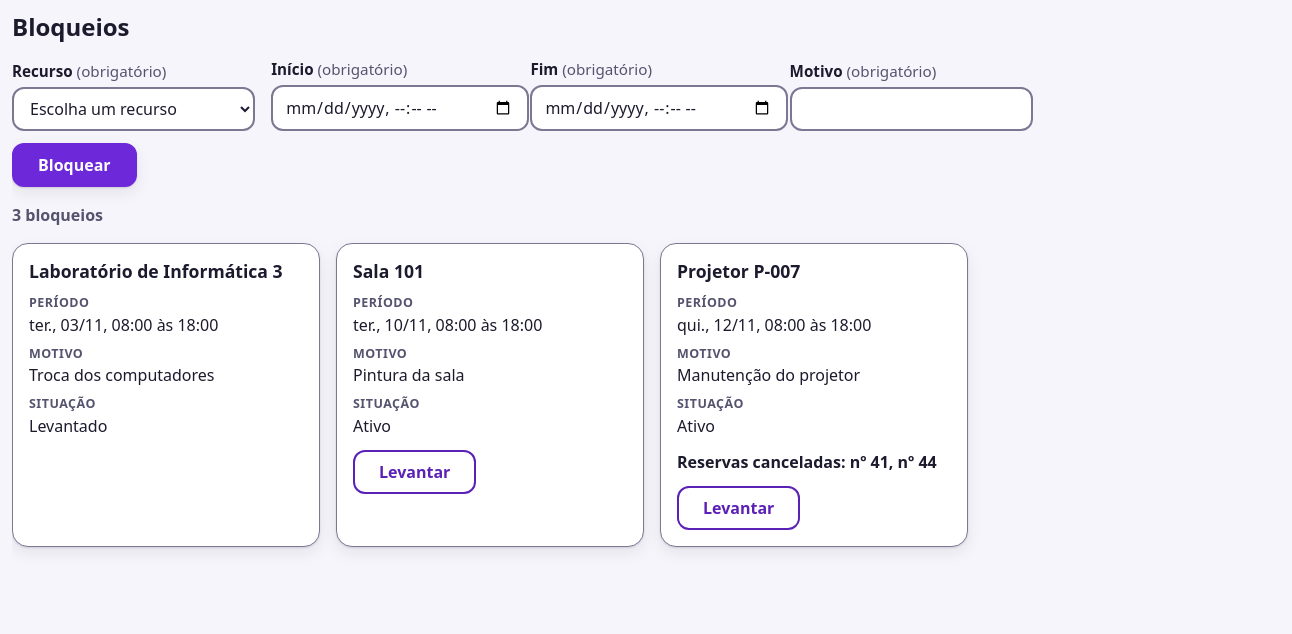
Scenario: PaginaDeBloqueios: novo bloqueio (RN-22) › sem reservas afetadas o primeiro envio cria o bloqueio: dados no fuso do campus, sem confirmação, aviso com o foco
Expected: the element "Sala 101" is shown, x1=336 y1=243 x2=644 y2=547
Step 1. Select "Sala 101" in the dropdown labelled "Recurso (obrigatório)" → [134, 109], box x1=12 y1=87 x2=255 y2=131
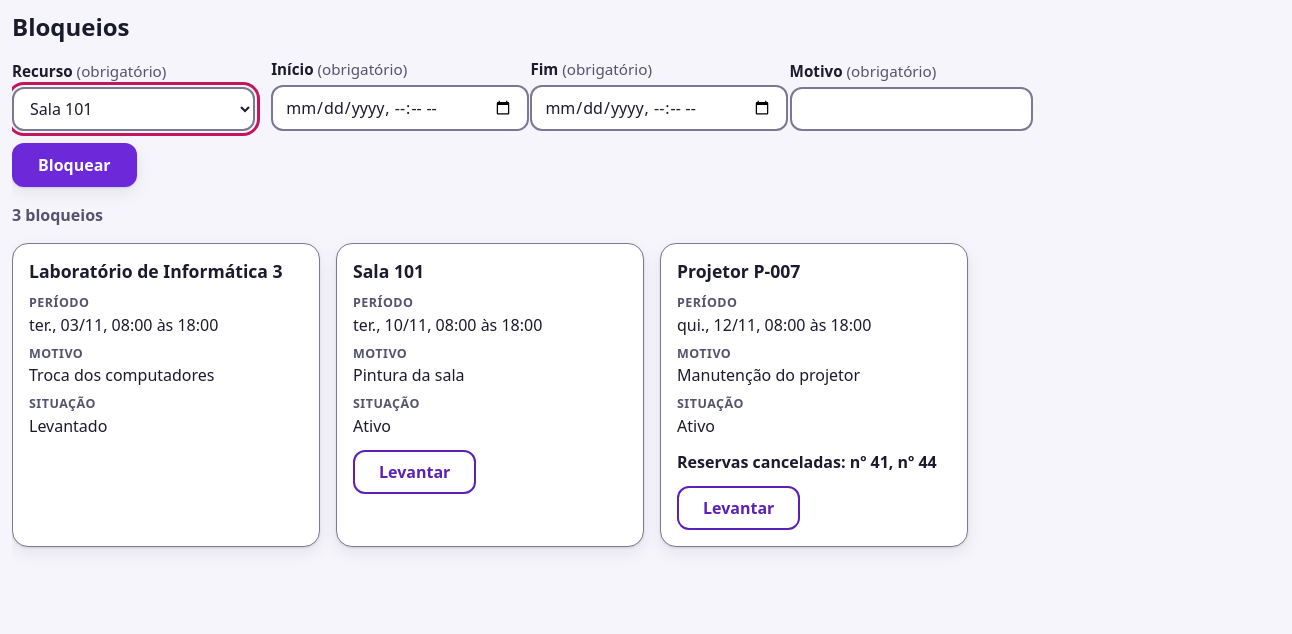
Step 2. Type "2026-11-20T08:00" into the field labelled "Início (obrigatório)" → [400, 108], box x1=271 y1=85 x2=529 y2=131
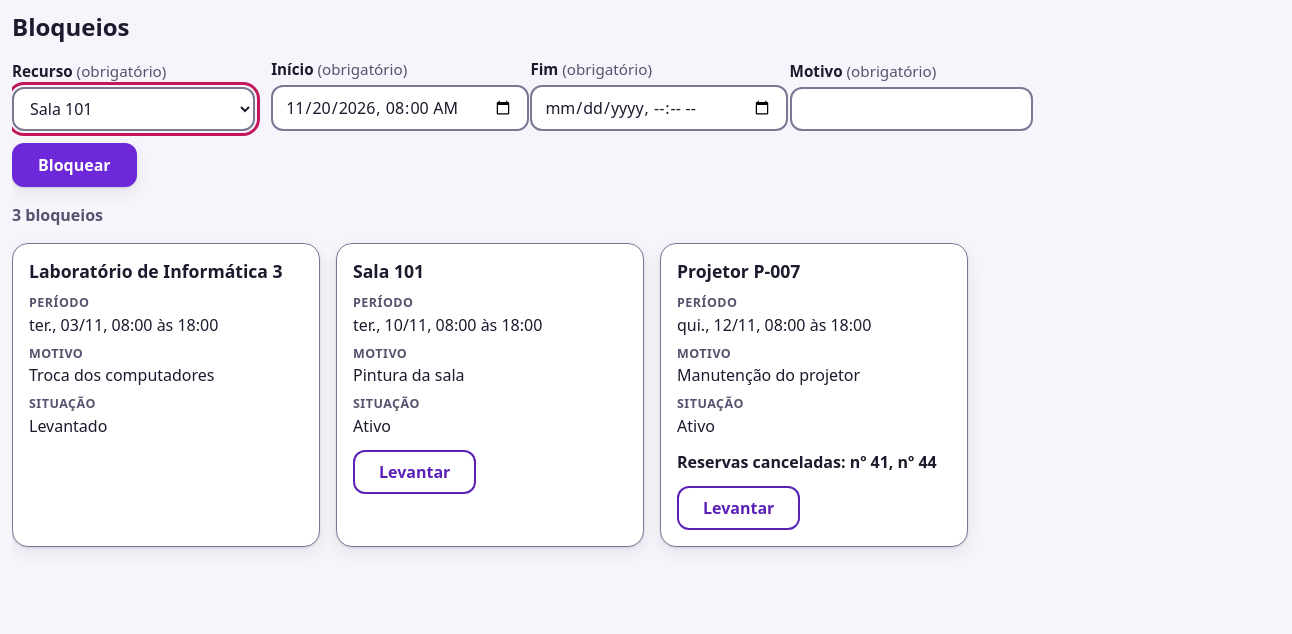
Step 3. Type "2026-11-20T18:00" into the field labelled "Fim (obrigatório)" → [659, 108], box x1=530 y1=85 x2=788 y2=131
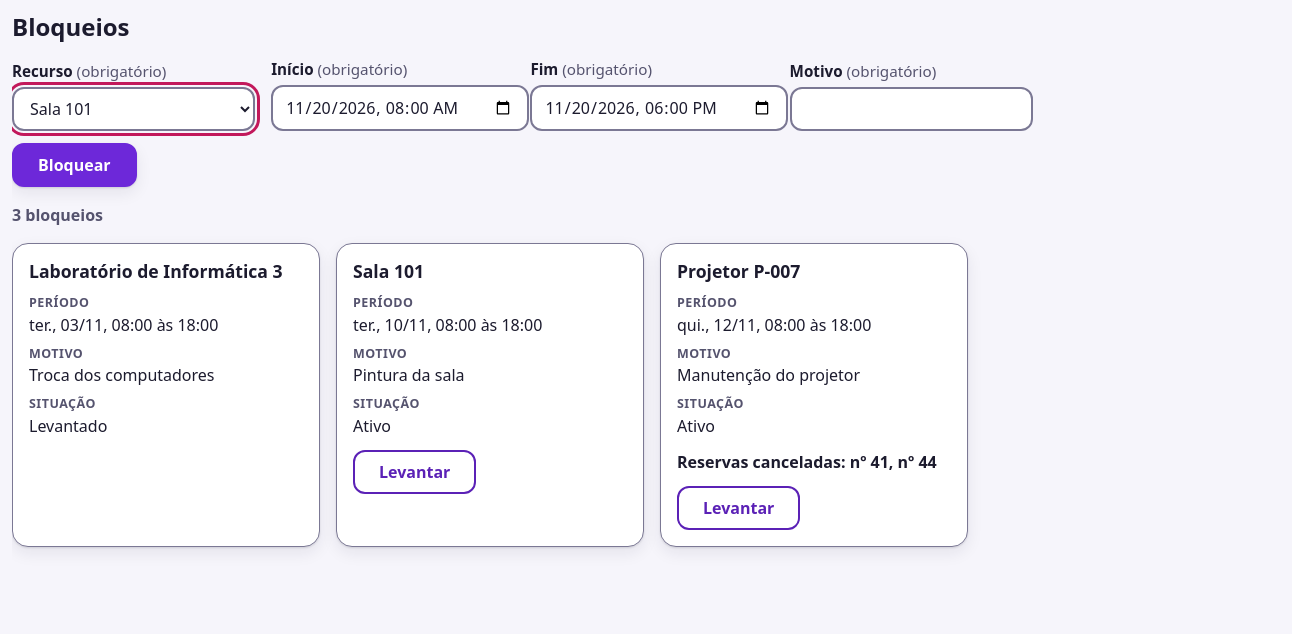
Step 4. Type "Troca do piso" into the field labelled "Motivo (obrigatório)" → [911, 109], box x1=790 y1=87 x2=1033 y2=131
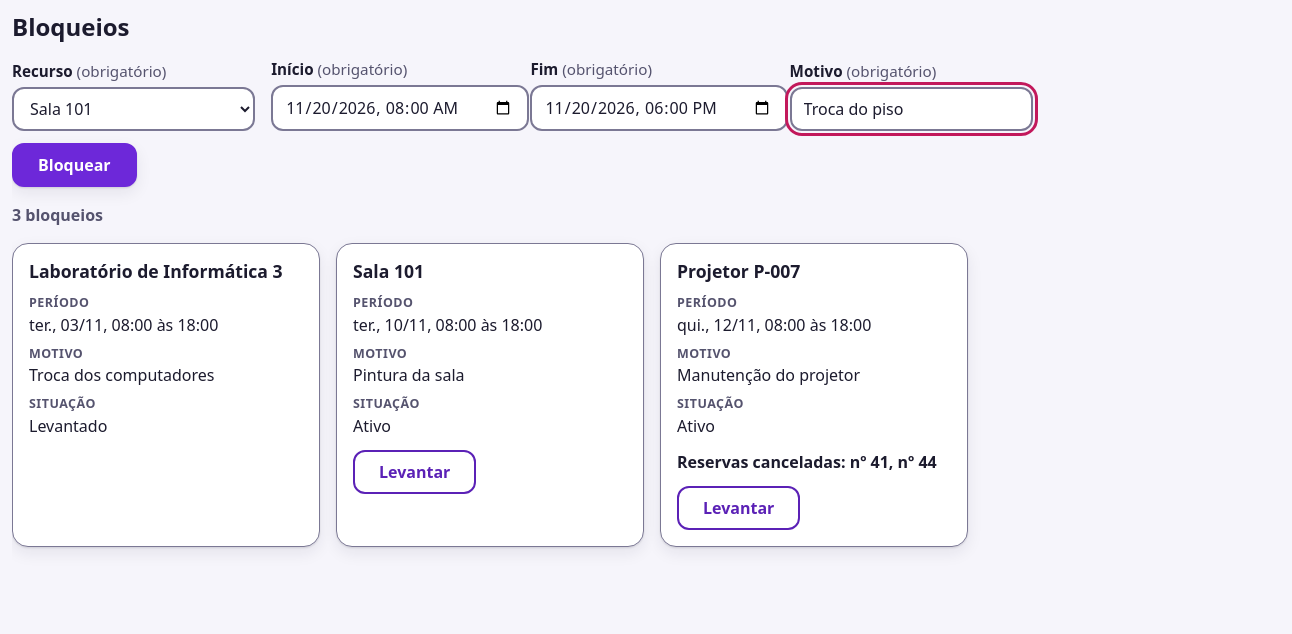
Step 5. Click the button "Bloquear" → [74, 165], box x1=12 y1=143 x2=137 y2=187
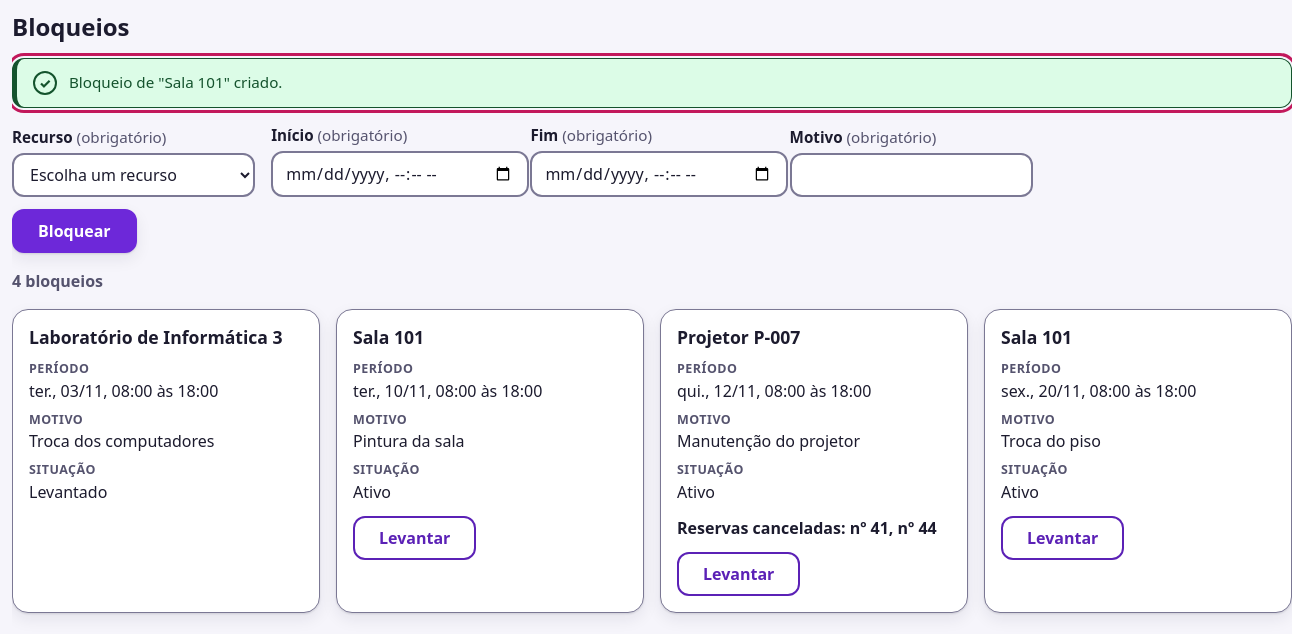
Result: the text "4 bloqueios" is shown at x1=12 y1=270 x2=103 y2=292
Result: the field labelled "Motivo (obrigatório)" is empty at x1=790 y1=153 x2=1033 y2=197
